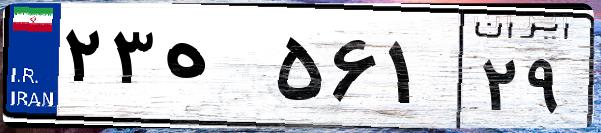1: (385, 28, 445, 110)
2: (57, 26, 110, 100), (475, 38, 525, 113)
3: (110, 28, 158, 98)
5: (270, 28, 330, 110)
6: (330, 28, 385, 110)
9: (525, 38, 570, 115)
ه: (158, 20, 270, 120)
